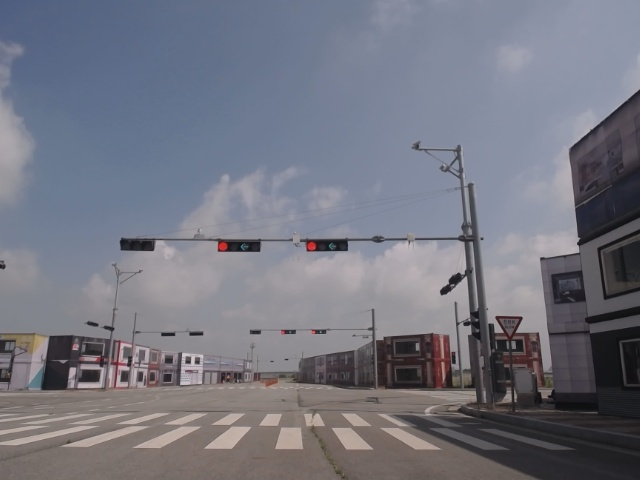left_green_4: (217, 239, 261, 253), (305, 239, 349, 251)
